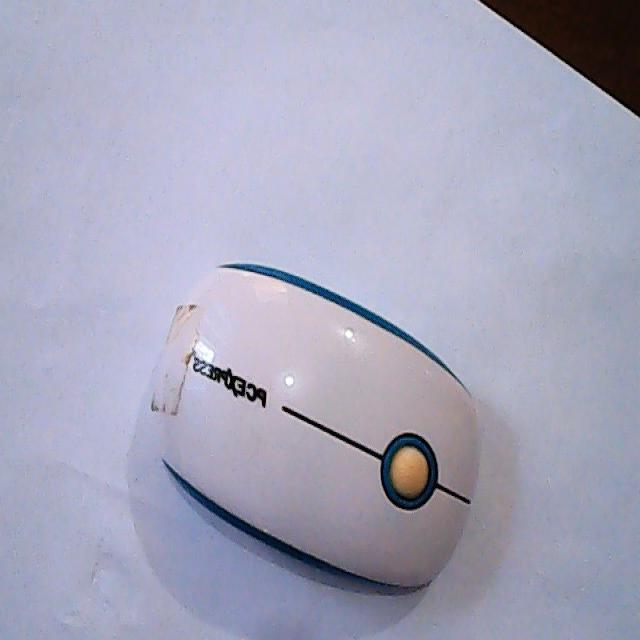mouse: (136, 290, 491, 580)
